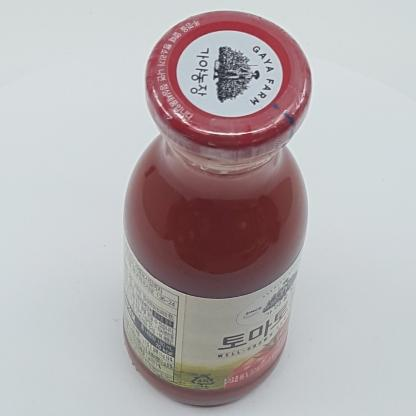-------180ML: (123, 11, 312, 406)
